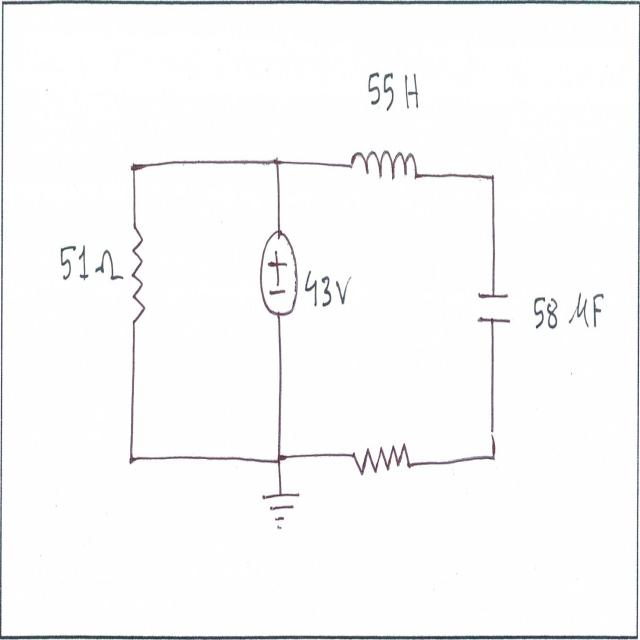capacitor: (471, 280, 515, 337)
ground: (255, 486, 302, 534)
inductor: (351, 136, 423, 189)
resistor: (348, 437, 412, 486), (126, 215, 148, 337)
voltage_source: (256, 224, 303, 325)
